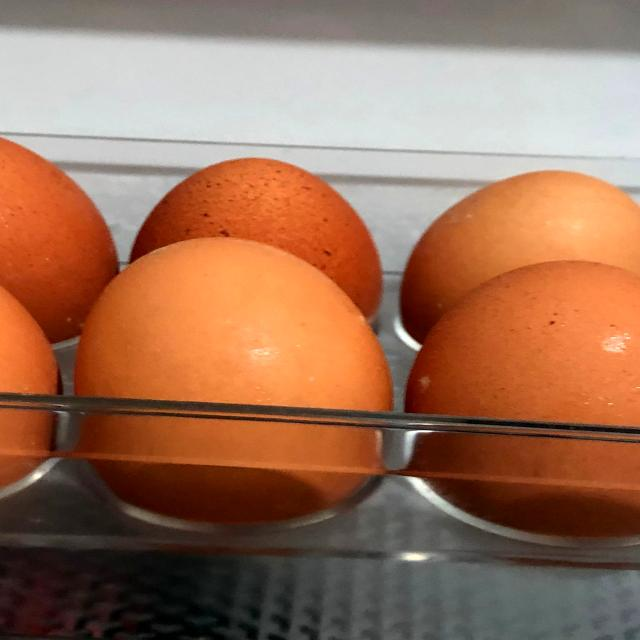egg: (69, 232, 400, 538)
